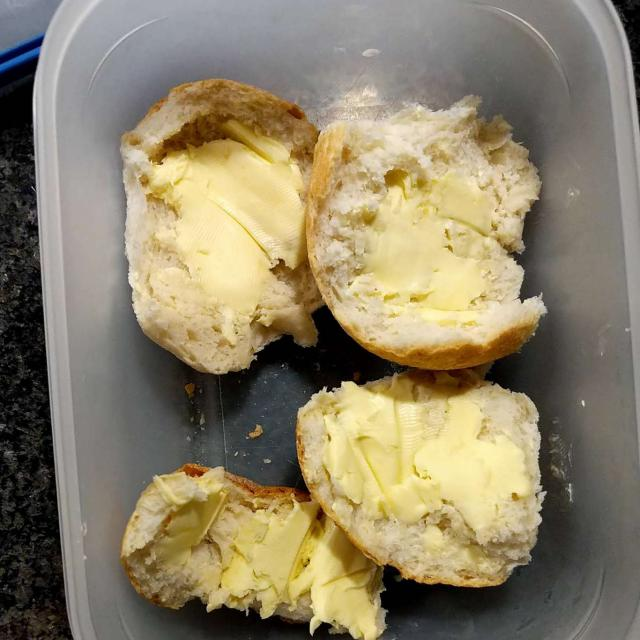bread-white: (103, 77, 562, 630)
butter: (148, 131, 534, 629)
